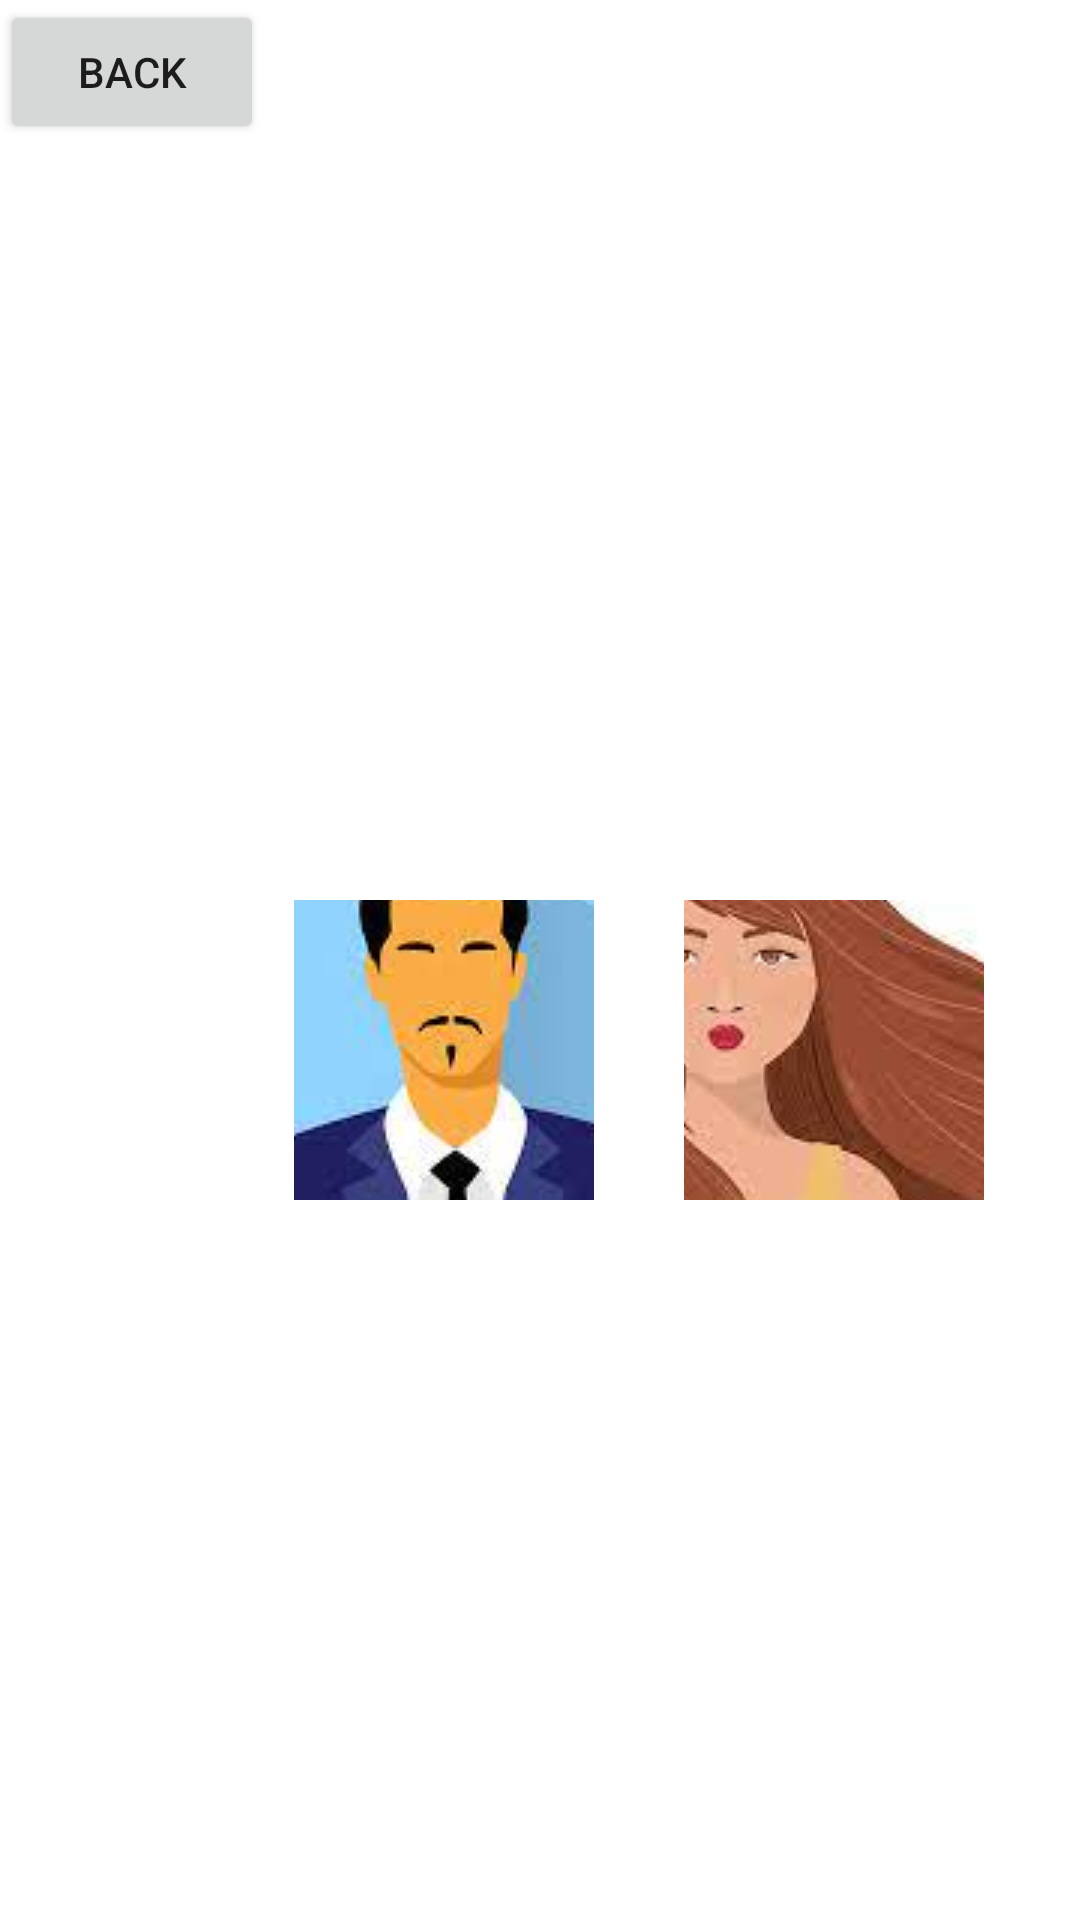

Point at icon controls on the screen. Image size 1080w x 1920h, points as (x=x, y=y).
femme: (x=834, y=1050)
homme: (x=444, y=1050)
